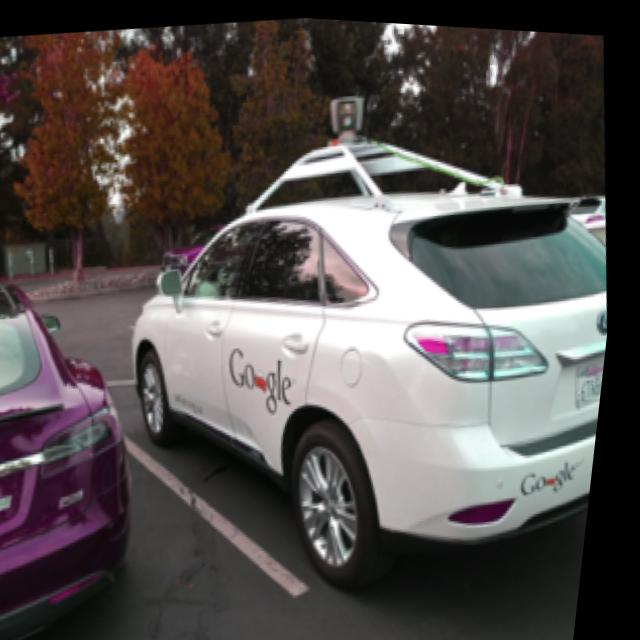license_plate: (582, 366, 611, 393)
